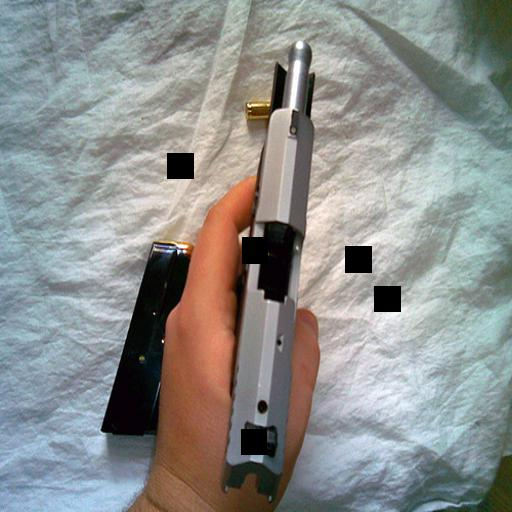Handgun: (219, 37, 315, 493)
